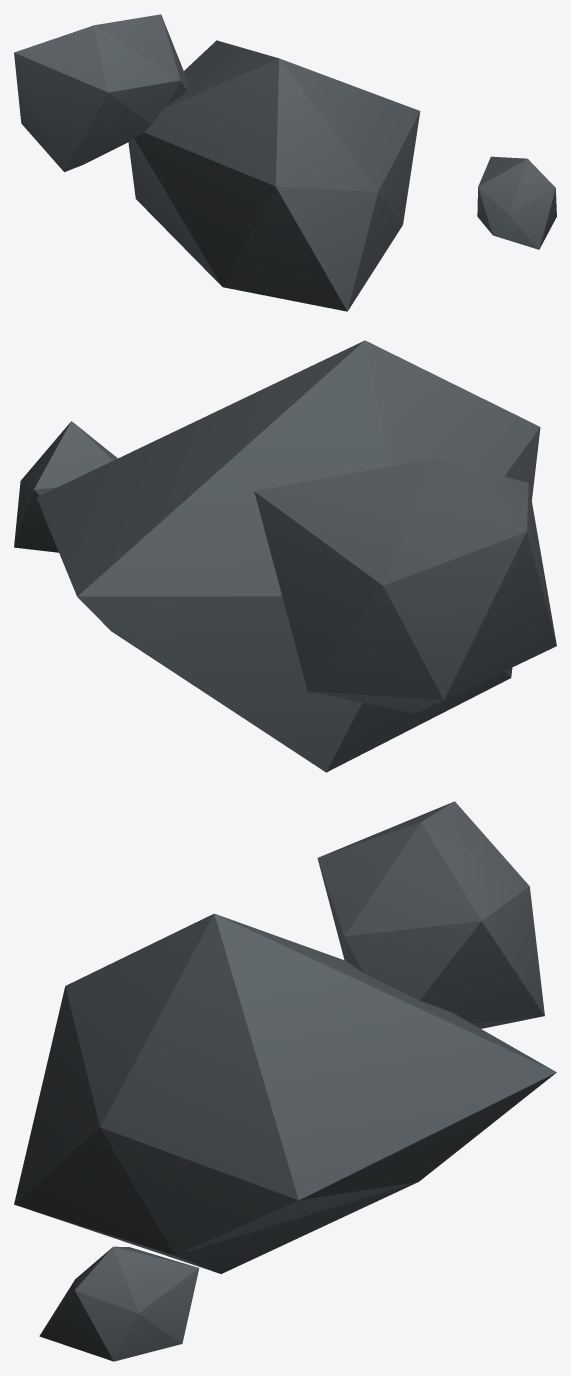
Rendered from boulder_c.glb.
The picture shows the model from 3 angles, top to bottom: view 1: azimuth 30°, elevation 25°; view 2: azimuth 150°, elevation 25°; view 3: azimuth 270°, elevation 25°; orthographic projection. The views are drawn at different scales.
Visible parts, largest first — view 1: boulder_c; view 2: boulder_c; view 3: boulder_c.
Boxes of the visible parts, x1,y1,x2,y2 form: boulder_c: (14, 14, 556, 311); boulder_c: (14, 340, 556, 772); boulder_c: (14, 801, 556, 1361).
Size of the model in its own units: 3.02 by 1.57 by 2.32.
1 material, 1 textured.
